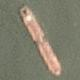ship: (0, 0, 26, 39)
